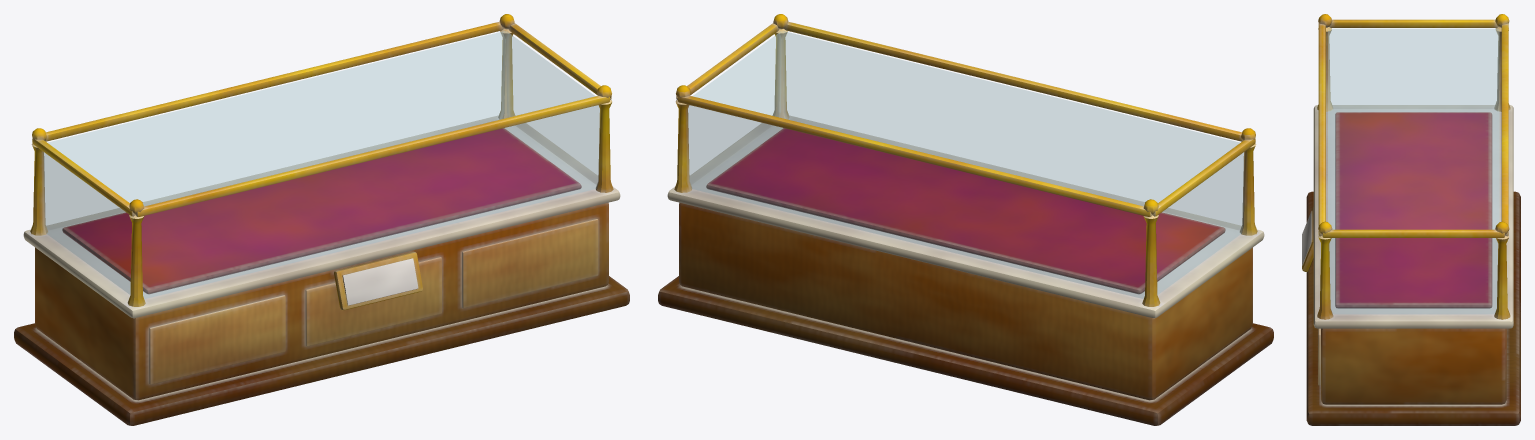
Rendered from display_case_medium.glb.
3 views of the same model, side by side, from view 1: azimuth 30°, elevation 25°; view 2: azimuth 150°, elevation 25°; view 3: azimuth 270°, elevation 25° (orthographic). The views are drawn at different scales.
Visible parts, largest first — view 1: SM_DisplayCaseMedium; view 2: SM_DisplayCaseMedium; view 3: SM_DisplayCaseMedium.
Boxes of the visible parts, box(x1,y1,x2,y2) form: SM_DisplayCaseMedium: box(14, 14, 629, 425); SM_DisplayCaseMedium: box(658, 14, 1273, 425); SM_DisplayCaseMedium: box(1302, 14, 1520, 425).
Size of what is drawn, in the model's own units: 3.7 by 1.53 by 1.53.
Materials: 2 (1 with a texture image).
